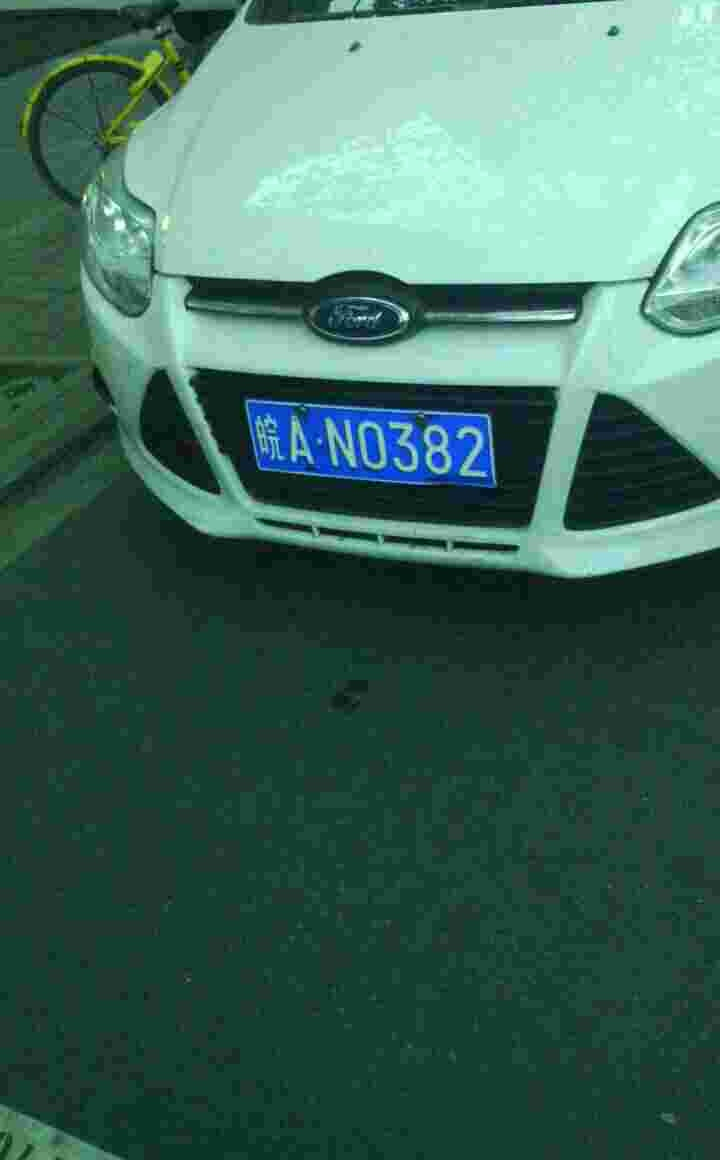license_plate: (246, 402, 487, 497)
